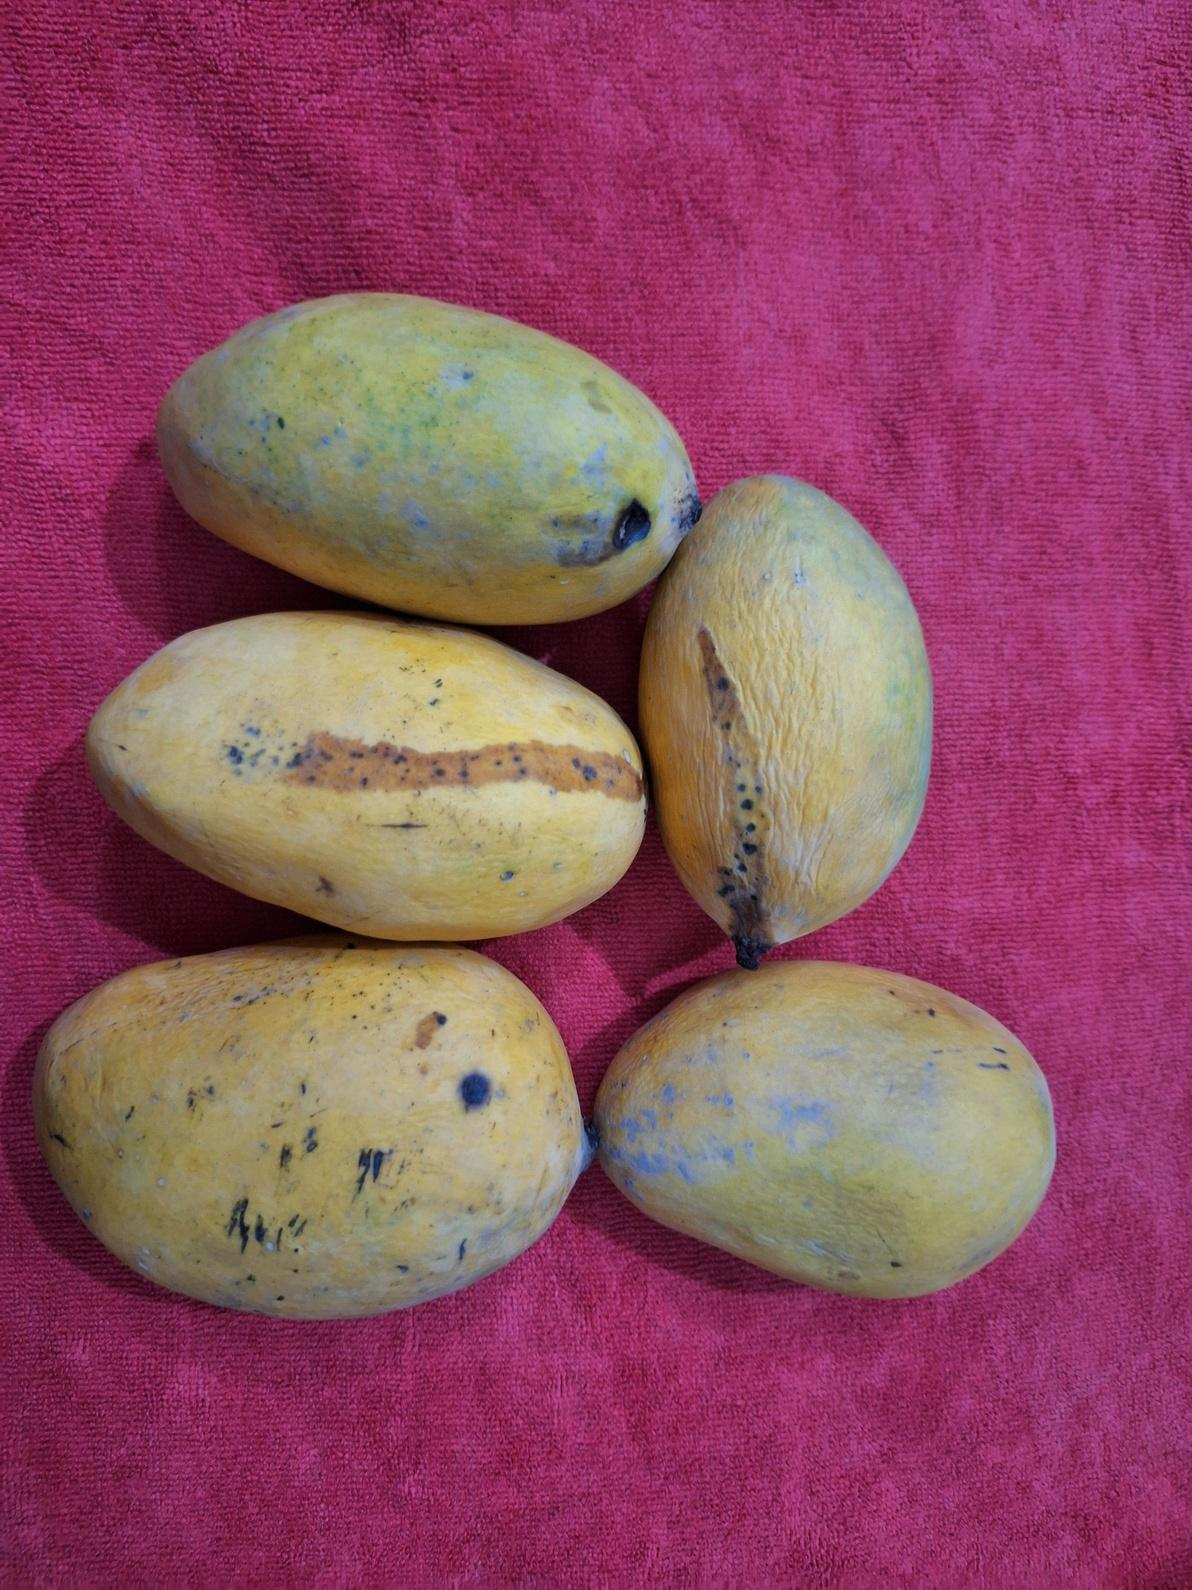mango: (31, 935, 591, 1321), (84, 607, 649, 941), (154, 288, 702, 626), (592, 957, 1057, 1300), (637, 471, 934, 969)
